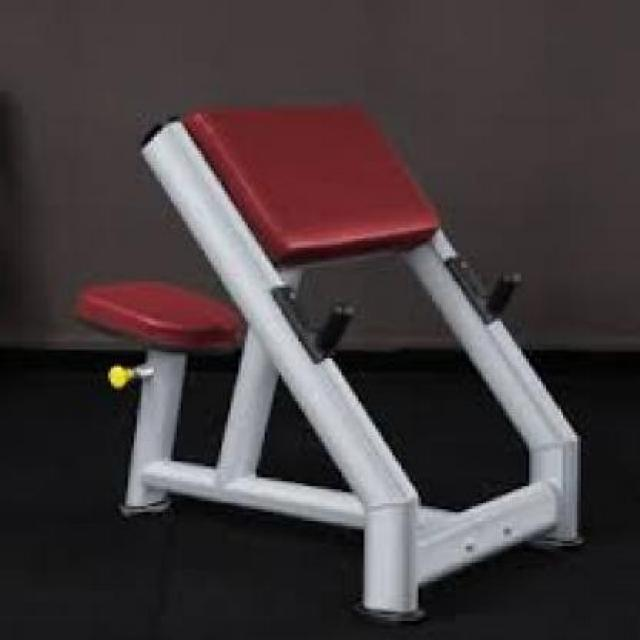arm curl machine: (72, 100, 591, 626)
